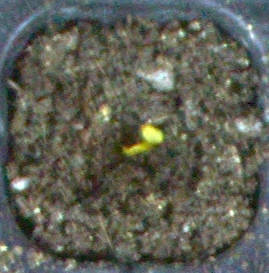chilli seed: (139, 123, 163, 144), (121, 143, 149, 156)
